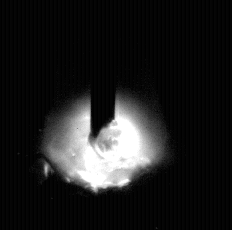arame: (91, 0, 116, 138)
poca: (40, 0, 167, 230)
